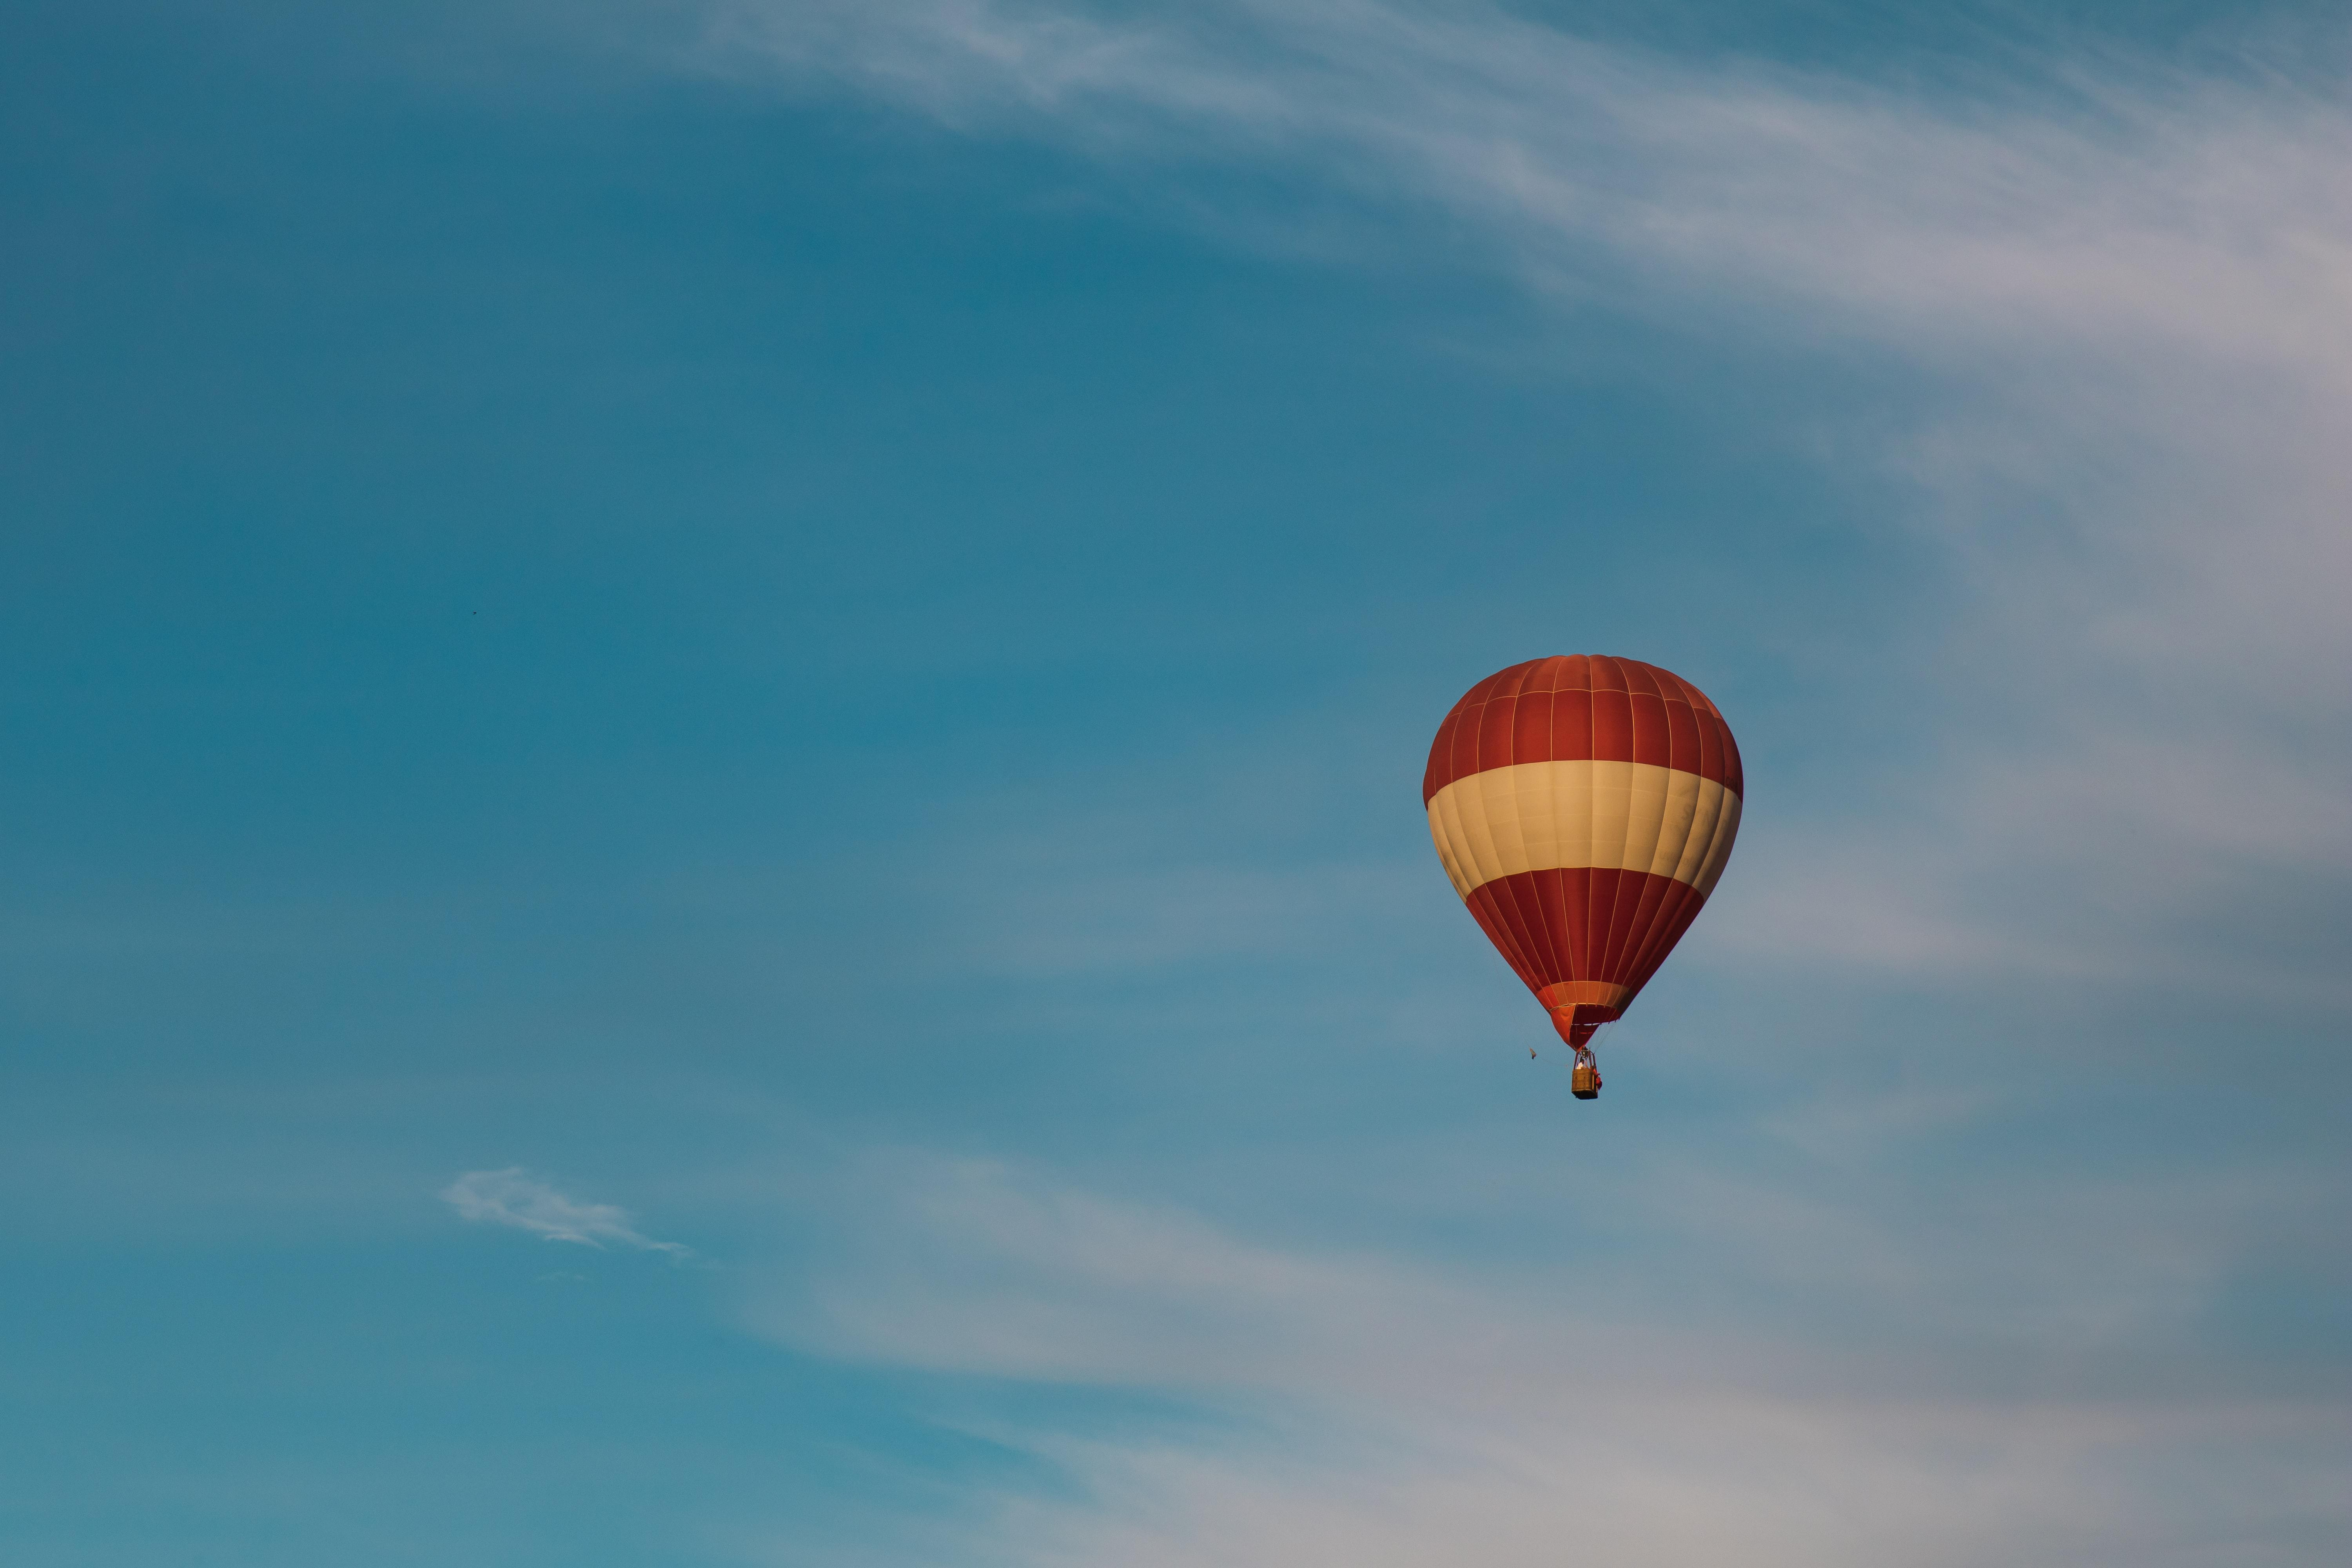hot air ballon: (1423, 654, 1745, 1102)
